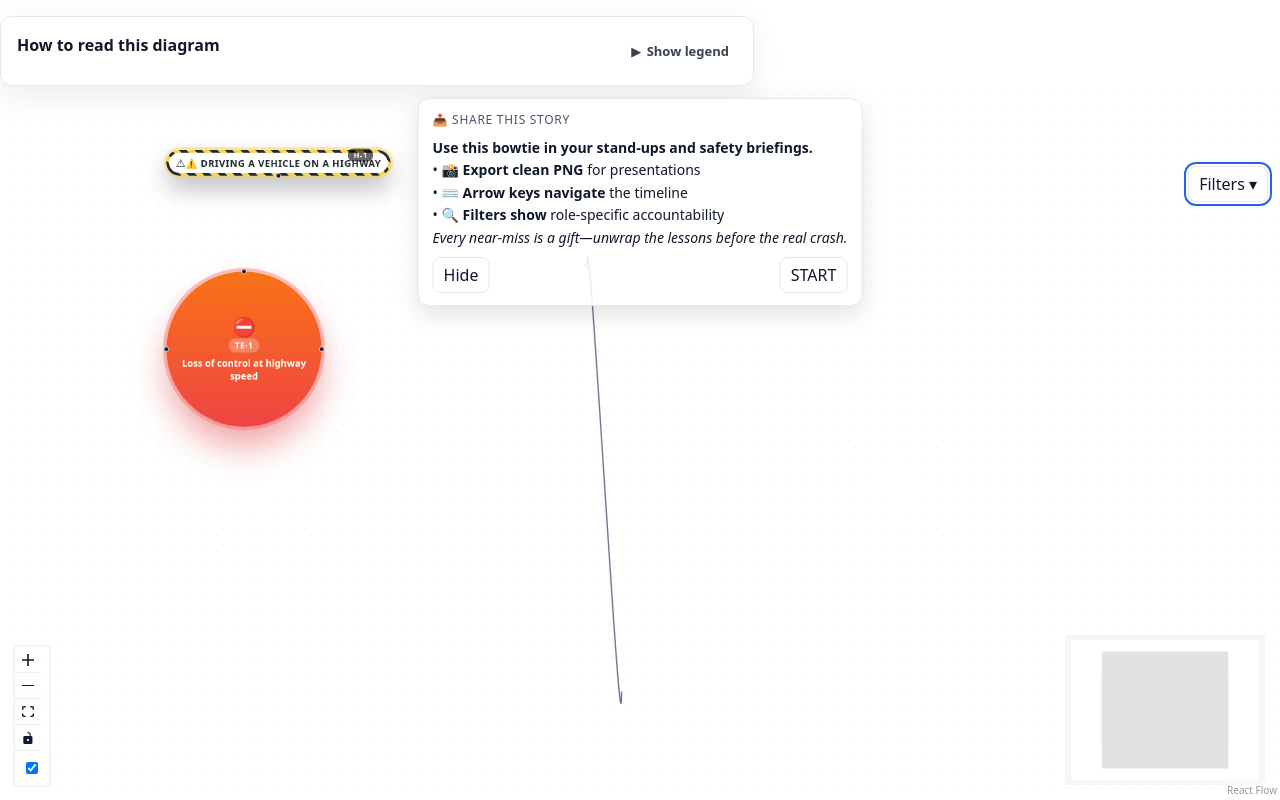
Narrative bullet points rendering › renders bold text using <strong> tags
The image size is (1280, 800).
Click the button "START".
click(814, 275)  # box [780, 257, 847, 293]
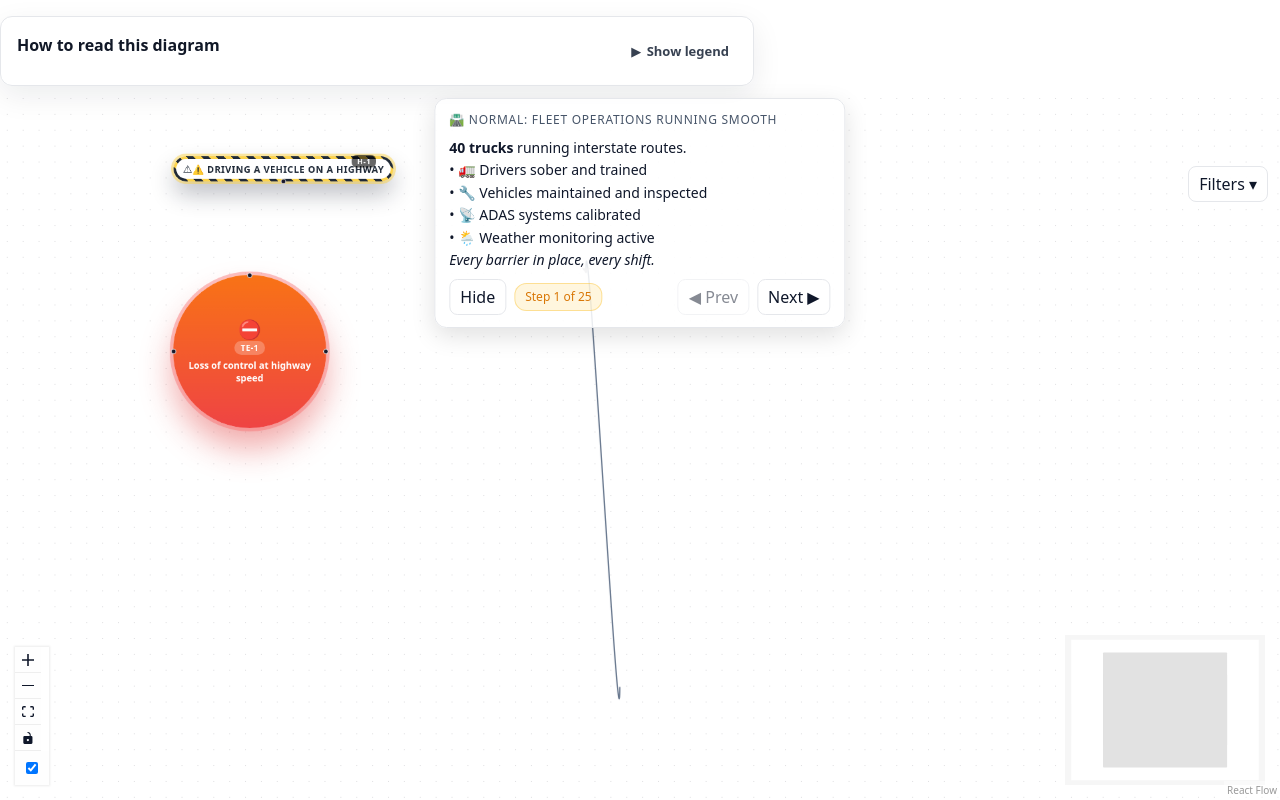
Now the text "40 trucks" is shown, box [449, 138, 513, 157]
